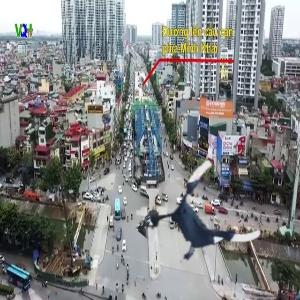drone: (156, 172, 259, 275)
